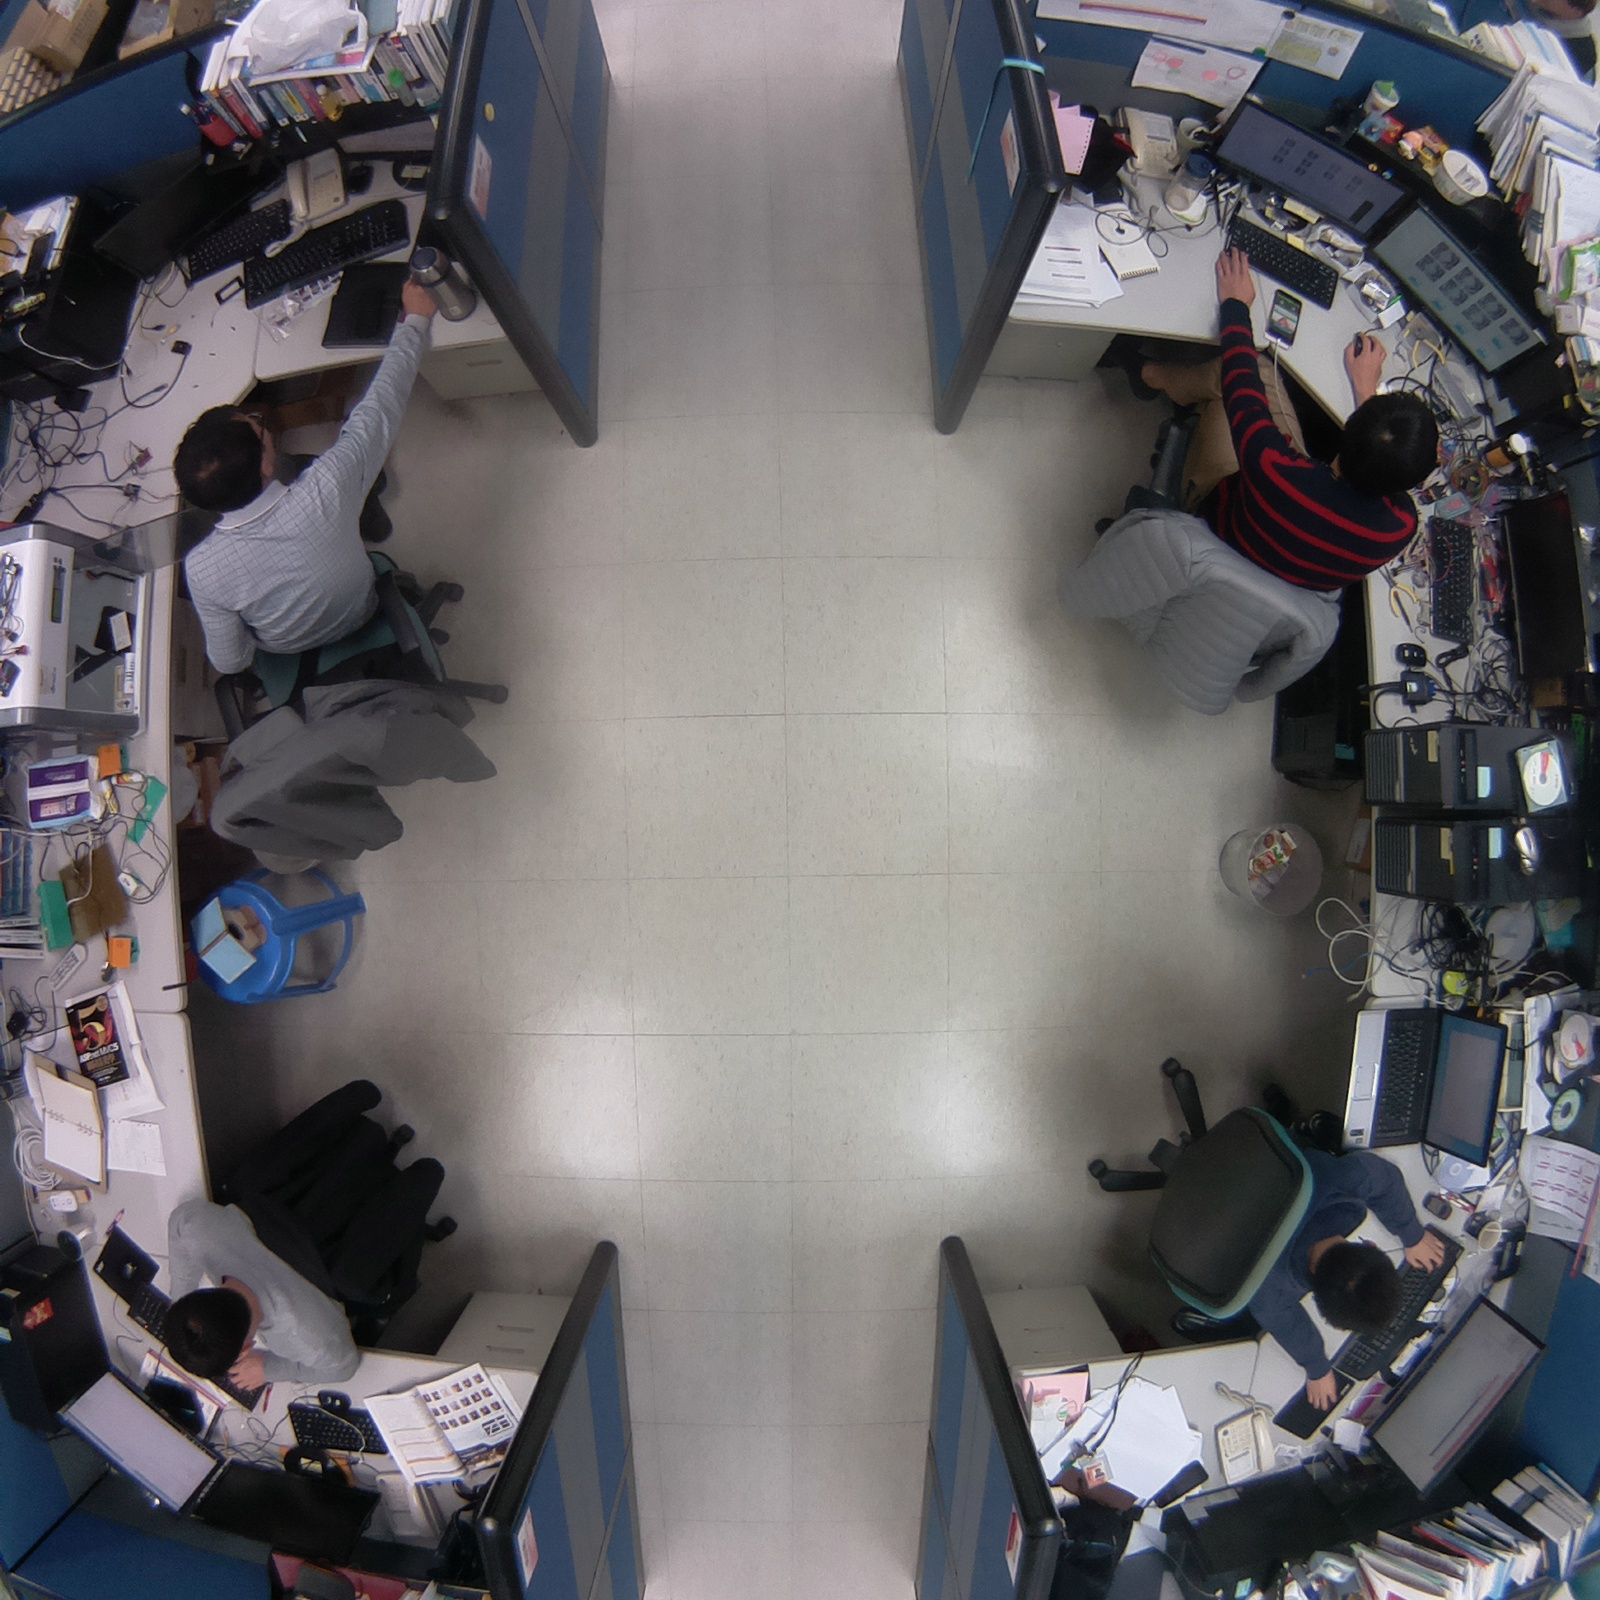head: (1329, 382, 1446, 493), (168, 400, 285, 504), (1304, 1231, 1410, 1340), (159, 1289, 255, 1385)
sitting: (167, 395, 524, 893), (1032, 326, 1428, 732), (1065, 1042, 1451, 1417), (147, 1060, 476, 1398)
